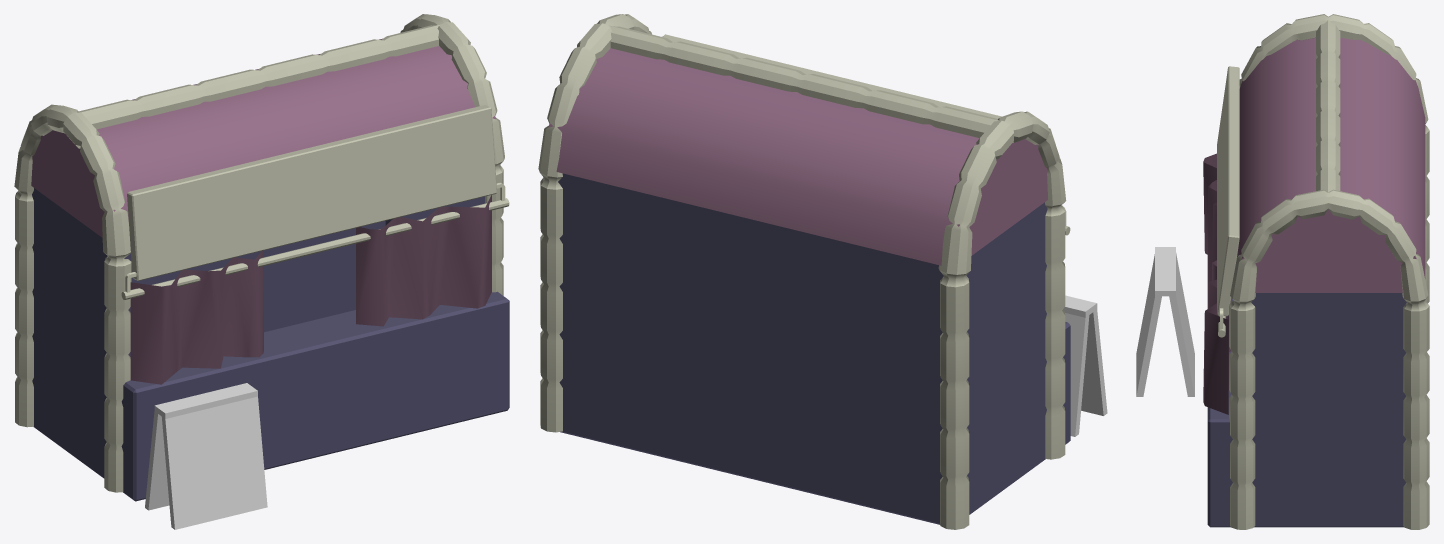
The model's file is TiendadeSuccubo.fbx.
The picture shows the model from 3 angles, left to right: view 1: azimuth 30°, elevation 25°; view 2: azimuth 150°, elevation 25°; view 3: azimuth 270°, elevation 25°; orthographic projection. The views are drawn at different scales.
Parts seen in each view (by area): view 1: polySurface8, polySurface26, polySurface7, polySurface24, nurbsToPoly4, polySurface5; view 2: polySurface8, polySurface7, polySurface24, polySurface5, polySurface26; view 3: polySurface8, polySurface7, polySurface24, polySurface26, polySurface5, nurbsToPoly4.
Part boxes in pixels (<box>): polySurface8: <box>32,188,509,501</box>; polySurface26: <box>121,105,509,299</box>; polySurface7: <box>31,38,495,246</box>; polySurface24: <box>14,14,504,492</box>; nurbsToPoly4: <box>130,195,491,384</box>; polySurface5: <box>145,383,267,529</box>; polySurface8: <box>558,173,1070,524</box>; polySurface7: <box>548,48,1047,265</box>; polySurface24: <box>538,14,1066,529</box>; polySurface5: <box>1063,295,1107,436</box>; polySurface26: <box>662,34,1070,235</box>; polySurface8: <box>1207,255,1406,527</box>; polySurface7: <box>1237,37,1425,292</box>; polySurface24: <box>1229,14,1429,529</box>; polySurface26: <box>1217,66,1239,337</box>; polySurface5: <box>1136,247,1194,396</box>; nurbsToPoly4: <box>1203,153,1230,414</box>.
Bounding box in the file's own units: 11.32 × 9.44 × 7.45.
